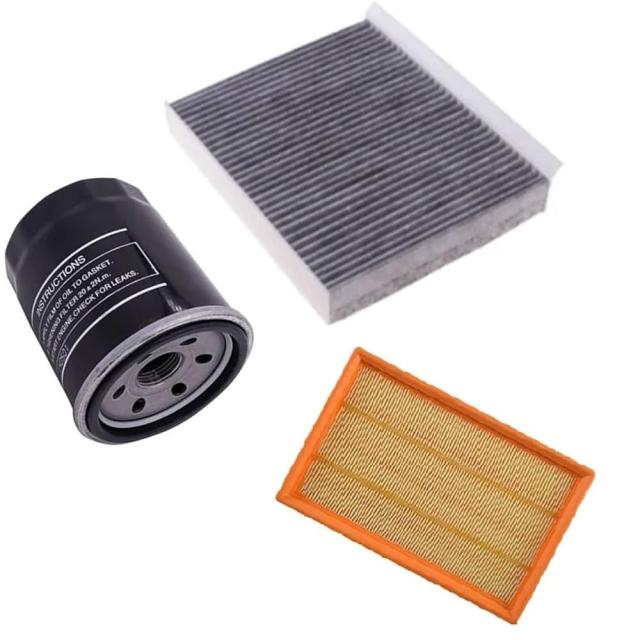air_filter: (159, 0, 564, 331), (271, 344, 598, 631)
oil_filter: (0, 175, 294, 460)
